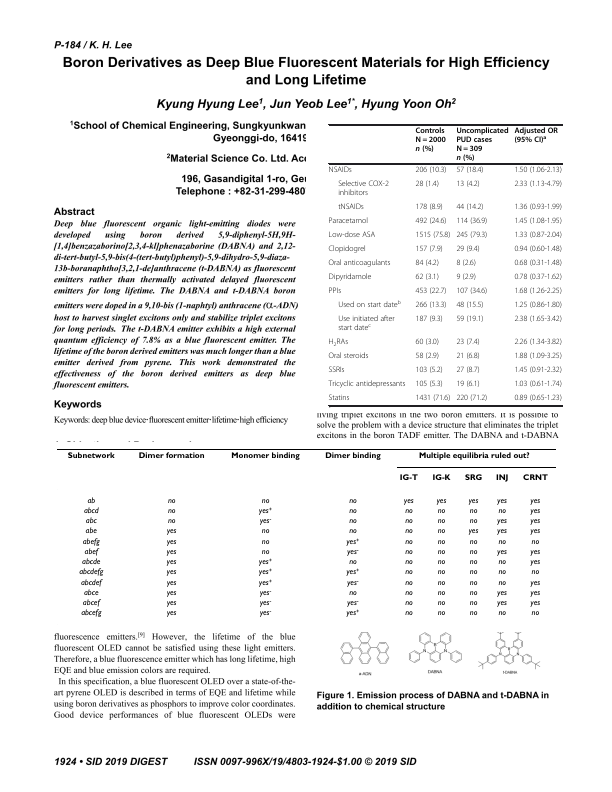borderless: (55, 447, 557, 626), (327, 123, 562, 405)
cell: (455, 127, 509, 163), (337, 315, 396, 334), (417, 452, 530, 461), (337, 180, 390, 199), (414, 127, 447, 154), (513, 127, 559, 145), (337, 299, 402, 311), (328, 380, 406, 390), (230, 452, 300, 461), (328, 259, 391, 269), (137, 452, 205, 461), (324, 452, 381, 461), (513, 166, 563, 176), (513, 180, 563, 190), (513, 203, 563, 213), (513, 217, 563, 227), (513, 231, 563, 241), (513, 245, 563, 255), (513, 259, 563, 269), (513, 273, 563, 283), (513, 287, 563, 297), (513, 301, 563, 311), (513, 315, 563, 325), (513, 338, 563, 348), (513, 352, 563, 362), (513, 366, 563, 376), (513, 380, 563, 390), (513, 394, 563, 404), (328, 231, 376, 241), (66, 452, 115, 461), (328, 273, 372, 283), (328, 217, 369, 227), (328, 352, 369, 362), (328, 245, 367, 255), (414, 231, 451, 241), (414, 394, 451, 404), (414, 166, 447, 176), (414, 217, 447, 227), (455, 217, 488, 227), (455, 231, 488, 241), (414, 287, 447, 297), (455, 287, 488, 297), (414, 301, 447, 311), (455, 394, 488, 404), (414, 203, 444, 213), (414, 245, 444, 255), (414, 315, 444, 325), (414, 366, 444, 376), (414, 380, 444, 390), (455, 166, 484, 176), (455, 203, 484, 213), (455, 301, 484, 311), (455, 315, 484, 325), (337, 203, 365, 213), (414, 180, 440, 190), (414, 259, 440, 269), (414, 273, 440, 283), (414, 338, 440, 348), (414, 352, 440, 362), (328, 166, 353, 176), (455, 180, 480, 190), (455, 245, 480, 255), (455, 338, 480, 348), (455, 352, 480, 362), (455, 366, 480, 376), (455, 380, 480, 390), (522, 474, 548, 483), (78, 568, 104, 577), (79, 578, 102, 588), (455, 259, 477, 269), (455, 273, 477, 283), (327, 338, 349, 348), (328, 394, 350, 404), (80, 609, 102, 618), (81, 537, 100, 547), (398, 474, 418, 483), (431, 474, 451, 483), (463, 474, 483, 483), (81, 558, 101, 567), (81, 599, 100, 608), (82, 506, 99, 516), (82, 588, 99, 598), (328, 366, 345, 376), (83, 547, 99, 557), (258, 506, 273, 516), (345, 537, 360, 547), (258, 578, 273, 588), (258, 588, 272, 598), (328, 287, 342, 297), (494, 474, 509, 483), (258, 558, 273, 567), (258, 568, 273, 577), (345, 568, 360, 577), (345, 609, 360, 618), (346, 547, 359, 557), (346, 578, 359, 588), (258, 517, 272, 526), (258, 599, 272, 608), (258, 609, 272, 618), (435, 496, 447, 506), (467, 496, 479, 506), (529, 496, 541, 506), (529, 506, 541, 516), (165, 537, 177, 547), (165, 547, 177, 557), (529, 547, 541, 557), (165, 578, 177, 588), (529, 578, 541, 588), (165, 588, 177, 598), (529, 588, 541, 598), (84, 517, 97, 526), (84, 527, 97, 536), (346, 599, 359, 608), (403, 496, 414, 506), (496, 496, 507, 506), (496, 547, 507, 557), (496, 588, 507, 598), (529, 517, 541, 526), (165, 527, 177, 536), (467, 527, 479, 536), (529, 527, 541, 536), (165, 558, 177, 567), (529, 558, 541, 567), (165, 568, 177, 577), (165, 599, 177, 608), (529, 599, 541, 608), (165, 609, 177, 618), (86, 496, 96, 506), (166, 496, 176, 506), (260, 496, 270, 506), (166, 506, 176, 516), (436, 506, 446, 516), (468, 506, 478, 516), (260, 537, 270, 547), (436, 537, 446, 547), (468, 537, 478, 547), (530, 537, 540, 547), (260, 547, 270, 557), (436, 547, 446, 557), (468, 547, 478, 557), (436, 578, 446, 588), (468, 578, 478, 588), (436, 588, 446, 598), (468, 588, 478, 598), (496, 517, 507, 526), (496, 527, 507, 536), (496, 599, 507, 608), (348, 496, 357, 506), (348, 506, 357, 516), (404, 506, 413, 516), (497, 506, 506, 516), (166, 517, 176, 526), (436, 517, 446, 526), (468, 517, 478, 526), (260, 527, 270, 536), (436, 527, 446, 536), (404, 537, 413, 547), (497, 537, 506, 547), (404, 547, 413, 557), (436, 558, 446, 567), (468, 558, 478, 567), (436, 568, 446, 577), (468, 568, 478, 577), (530, 568, 540, 577), (404, 578, 413, 588), (497, 578, 506, 588), (348, 588, 357, 598), (404, 588, 413, 598), (436, 599, 446, 608), (468, 599, 478, 608), (436, 609, 446, 618), (468, 609, 478, 618), (530, 609, 540, 618), (348, 517, 357, 526), (404, 517, 413, 526), (348, 527, 357, 536), (404, 527, 413, 536), (348, 558, 357, 567), (404, 558, 413, 567), (497, 558, 506, 567), (404, 568, 413, 577), (497, 568, 506, 577), (404, 599, 413, 608), (404, 609, 413, 618), (497, 609, 506, 618)
